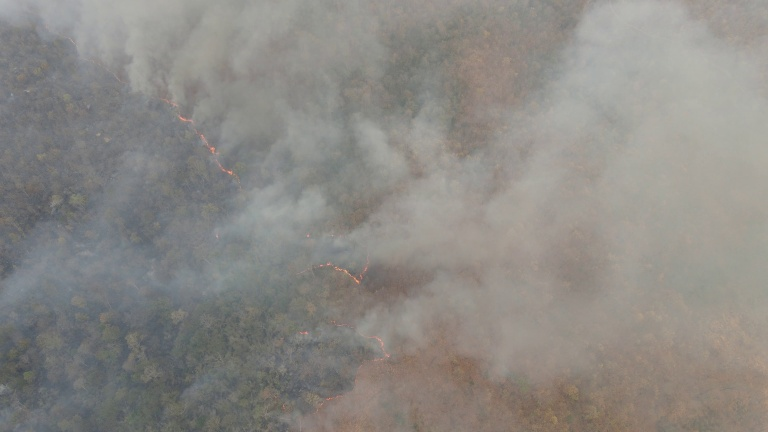fire: (160, 96, 256, 244), (49, 27, 162, 95), (289, 315, 396, 372), (278, 388, 361, 421), (313, 256, 373, 289), (297, 230, 337, 243)
smoke: (386, 6, 744, 353), (26, 1, 414, 209)
